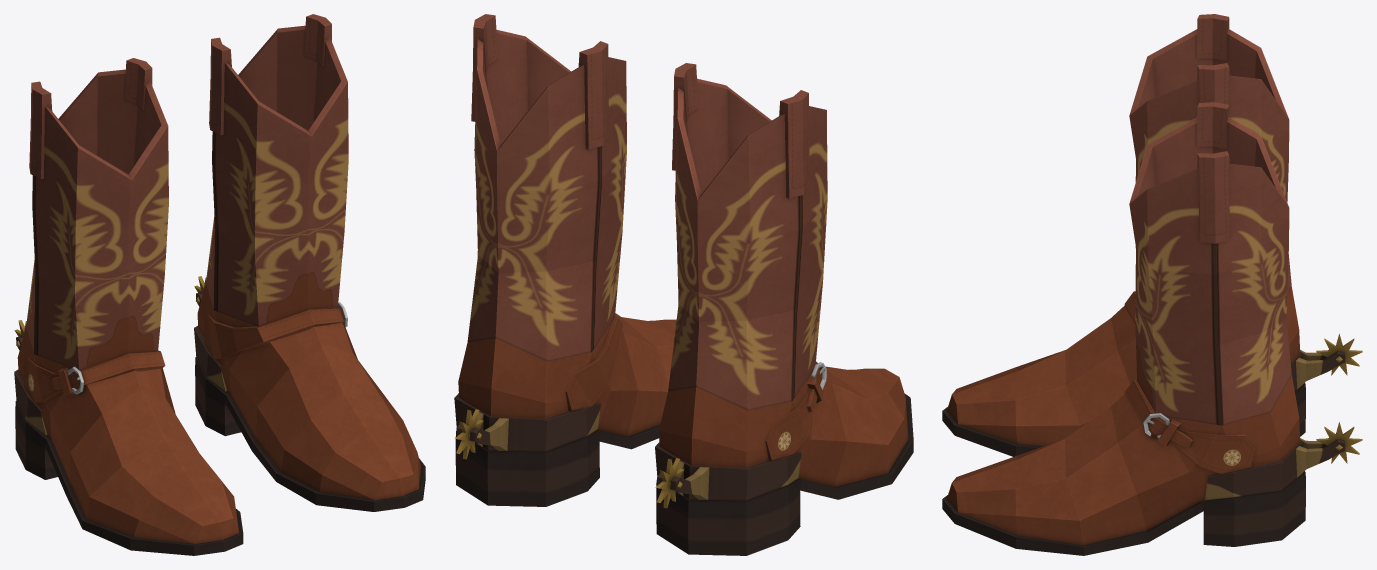
File: Cowboy boots.glb
3 views of the same model, side by side, from view 1: azimuth 30°, elevation 25°; view 2: azimuth 150°, elevation 25°; view 3: azimuth 270°, elevation 25° (orthographic). The views are drawn at different scales.
Parts seen in each view (by area): view 1: CowboyBoots_Mesh; view 2: CowboyBoots_Mesh; view 3: CowboyBoots_Mesh.
Part boxes in pixels (x1,y1,x2,y2): CowboyBoots_Mesh: (14, 14, 425, 555); CowboyBoots_Mesh: (454, 14, 913, 555); CowboyBoots_Mesh: (942, 14, 1362, 555).
Size of the model in its own units: 2.25 by 2.58 by 2.51.
1 material, 1 textured.
